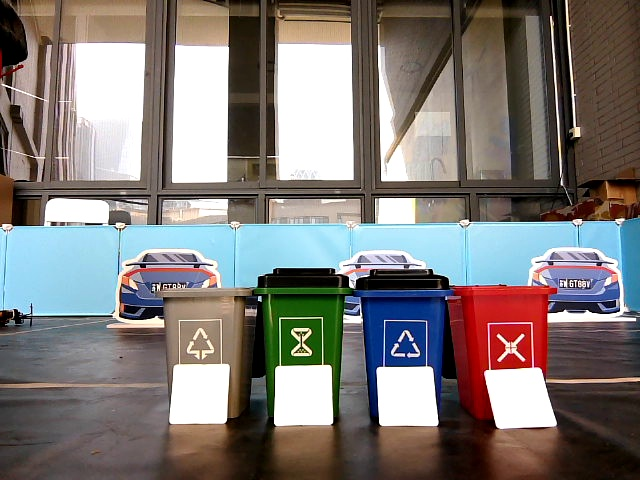blue_close: (361, 268, 440, 364)
green_close: (262, 267, 339, 361)
grey_open: (164, 289, 246, 364)
red_open: (460, 286, 542, 365)
